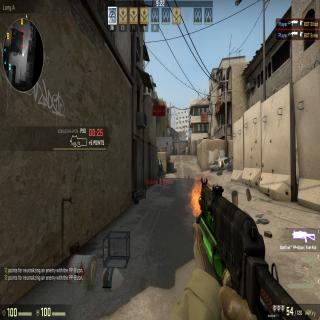T-Body: (157, 159, 163, 185)
T-Head: (158, 159, 162, 165)
